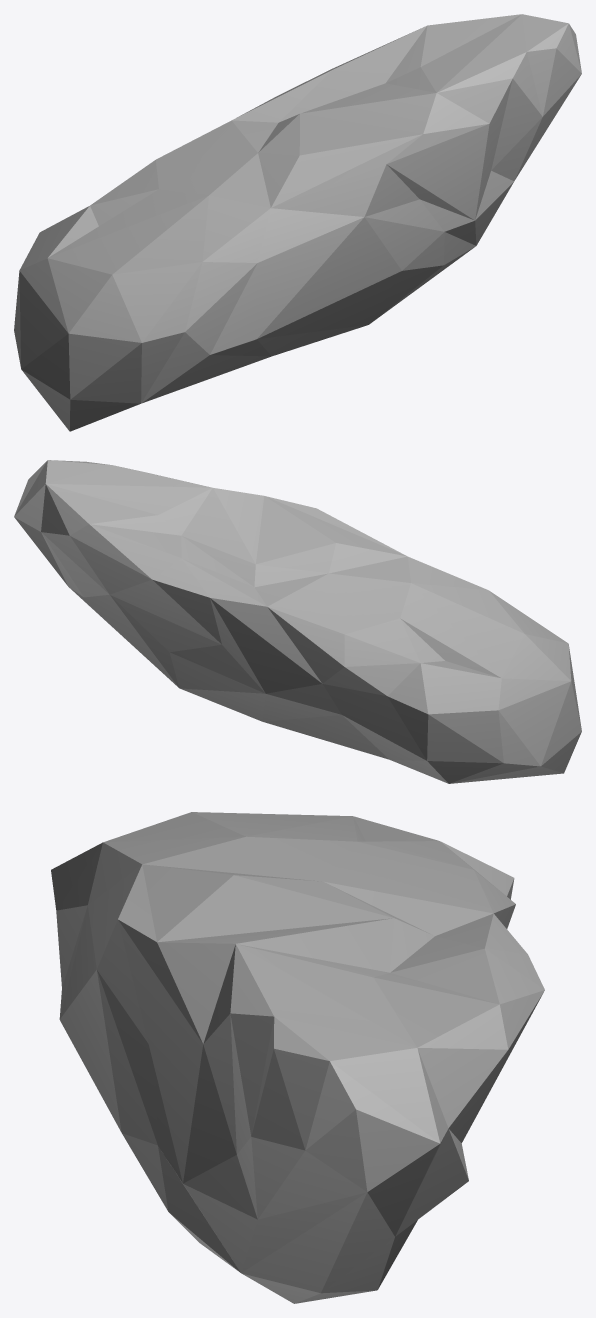
File: stone-large.glb
The picture shows the model from 3 angles, top to bottom: view 1: azimuth 30°, elevation 25°; view 2: azimuth 150°, elevation 25°; view 3: azimuth 270°, elevation 25°; orthographic projection. The views are drawn at different scales.
Parts seen in each view (by area): view 1: stone large; view 2: stone large; view 3: stone large.
Part boxes in pixels (left/top/right/bottom): stone large: left=14, top=14, right=581, bottom=431; stone large: left=14, top=460, right=581, bottom=783; stone large: left=51, top=812, right=544, bottom=1303.
Bounding box in the file's own units: 7.33 × 3.08 × 3.11.
1 material, 1 textured.
